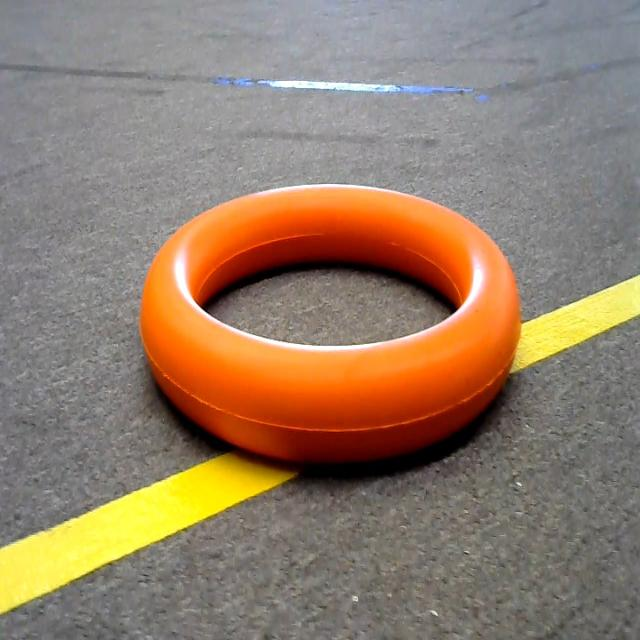note: (124, 180, 552, 482)
